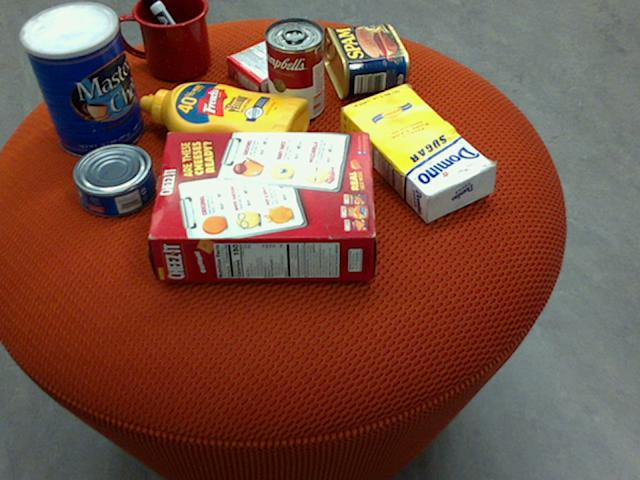cracker_box: (148, 129, 375, 280)
gelatin_box: (226, 32, 316, 98)
large_marker: (143, 0, 202, 71)
master_chef_can: (18, 1, 144, 157)
mug: (118, 0, 210, 81)
mustard_bottle: (140, 82, 309, 166)
potted_meat_can: (321, 24, 409, 100)
sugar_box: (339, 84, 496, 221)
tomato_soup_can: (264, 16, 324, 121)
tuna_fish_can: (72, 143, 157, 217)
